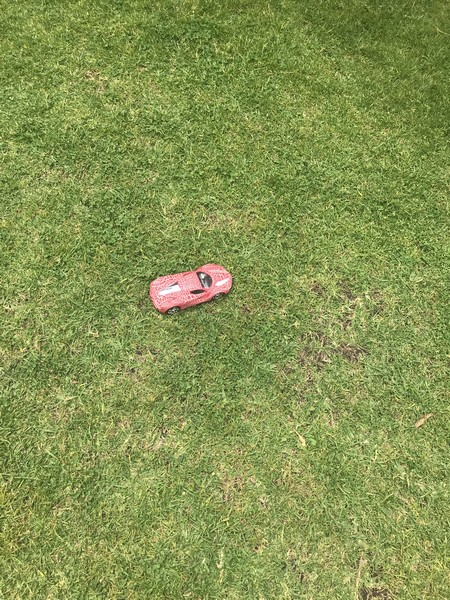RC: (148, 264, 233, 315)
